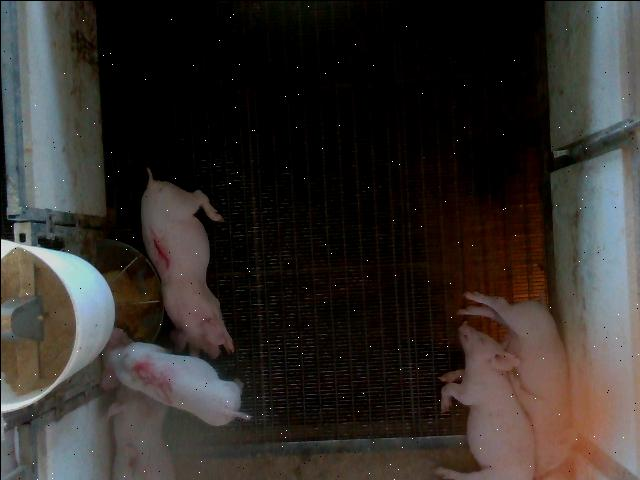pig-1: (140, 168, 232, 357)
pig-3: (108, 384, 174, 478)
pig-5: (101, 328, 250, 424)
